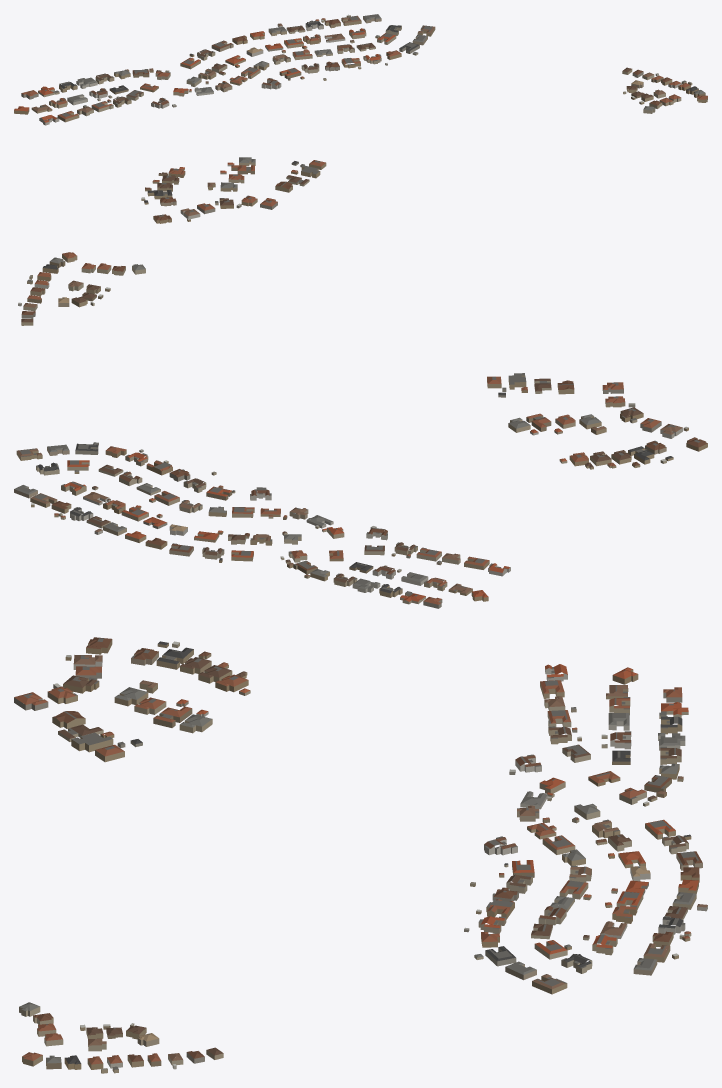
3 renders of one model, top to bottom at view 1: azimuth 30°, elevation 25°; view 2: azimuth 150°, elevation 25°; view 3: azimuth 270°, elevation 25°, orthographic. The views are drawn at different scales.
Parts seen in each view (by area): view 1: buildings_r6_c4_lod1; view 2: buildings_r6_c4_lod1; view 3: buildings_r6_c4_lod1.
Boxes of the visible parts, left/top/right/bottom form: buildings_r6_c4_lod1: left=14, top=14, right=707, bottom=223; buildings_r6_c4_lod1: left=14, top=252, right=707, bottom=608; buildings_r6_c4_lod1: left=14, top=637, right=707, bottom=1073.
Size of the model in its own units: 1108 by 63.08 by 737.
